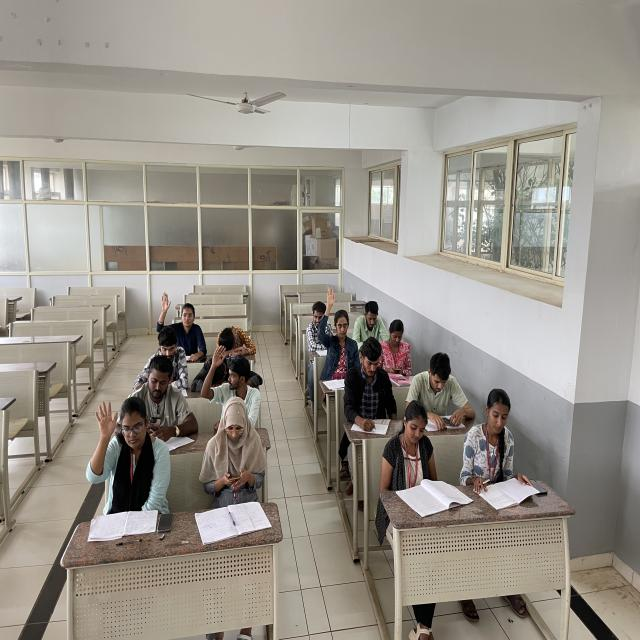Hand Rising: (85, 398, 169, 512), (200, 341, 258, 418), (315, 286, 361, 372), (157, 292, 208, 352)
Reading: (378, 404, 465, 509), (406, 348, 469, 428)
Sleeping: (218, 322, 261, 356)
Using Phone: (200, 401, 274, 507), (137, 355, 196, 438), (380, 322, 416, 374), (354, 302, 388, 343)
Writing: (461, 390, 526, 493), (345, 334, 398, 430)
